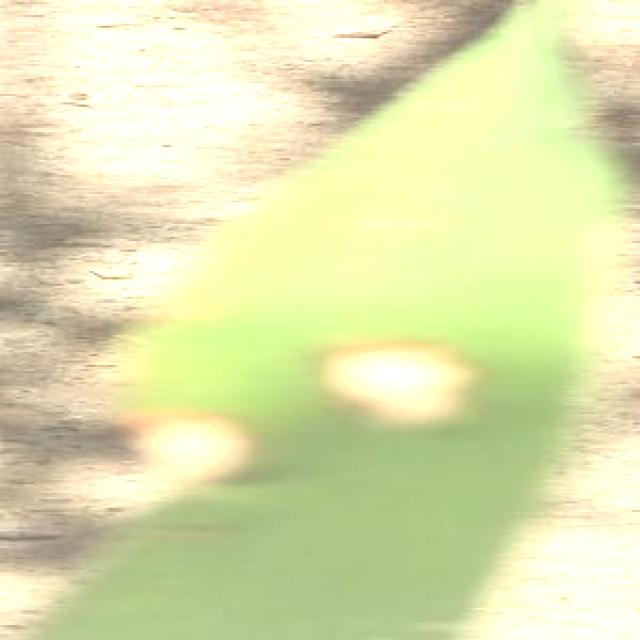Brown_Spot: (302, 330, 496, 446)
